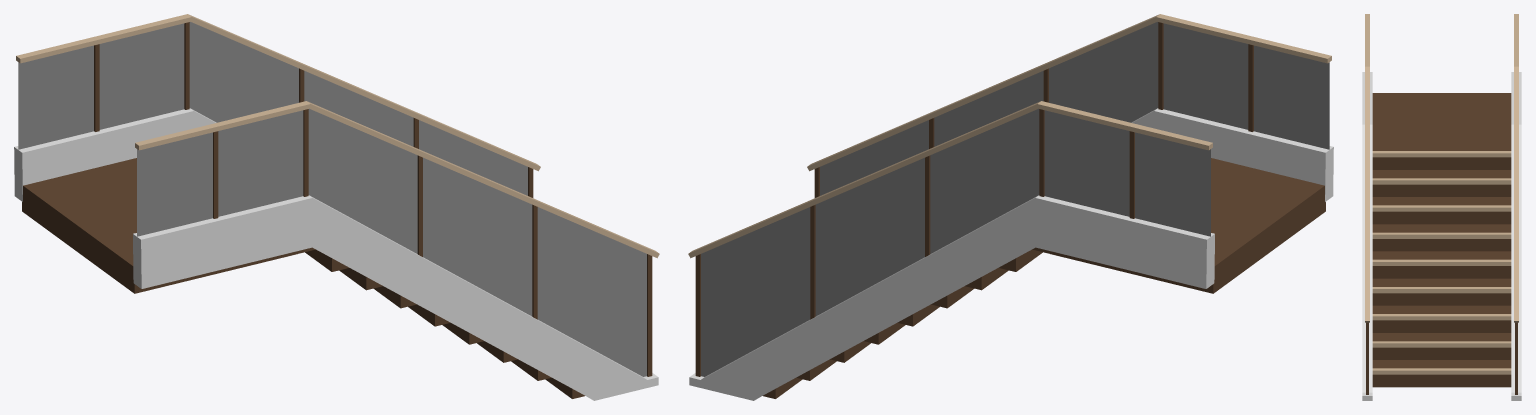
Rendered from ladder.fbx.
The picture shows the model from 3 angles, left to right: view 1: azimuth 30°, elevation 25°; view 2: azimuth 150°, elevation 25°; view 3: azimuth 270°, elevation 25°; orthographic projection. The views are drawn at different scales.
Parts seen in each view (by area): view 1: Куб.076, Куб.068, Куб.071, Куб.073, Куб.072, Куб.070, Куб.075; view 2: Куб.076, Куб.068, Куб.071, Куб.073, Куб.072, Куб.070, Куб.075; view 3: Куб.070, Куб.071, Куб.068, Куб.073, Куб.072.
Part boxes in pixels (left/top/right/bottom): Куб.076: left=18, top=22, right=646, bottom=376; Куб.068: left=14, top=108, right=658, bottom=400; Куб.071: left=22, top=158, right=297, bottom=293; Куб.073: left=16, top=14, right=659, bottom=258; Куб.072: left=184, top=22, right=652, bottom=376; Куб.070: left=297, top=247, right=584, bottom=398; Куб.075: left=94, top=44, right=218, bottom=218; Куб.076: left=701, top=22, right=1329, bottom=376; Куб.068: left=689, top=108, right=1333, bottom=400; Куб.071: left=1050, top=158, right=1325, bottom=293; Куб.073: left=688, top=14, right=1331, bottom=258; Куб.072: left=695, top=22, right=1163, bottom=376; Куб.070: left=763, top=247, right=1050, bottom=398; Куб.075: left=1129, top=44, right=1253, bottom=218; Куб.070: left=1372, top=142, right=1511, bottom=387; Куб.071: left=1372, top=93, right=1511, bottom=142; Куб.068: left=1362, top=72, right=1521, bottom=400; Куб.073: left=1365, top=14, right=1518, bottom=322; Куб.072: left=1366, top=322, right=1517, bottom=394.
Size of the model in its own units: 35.25 by 23.56 by 14.88.
